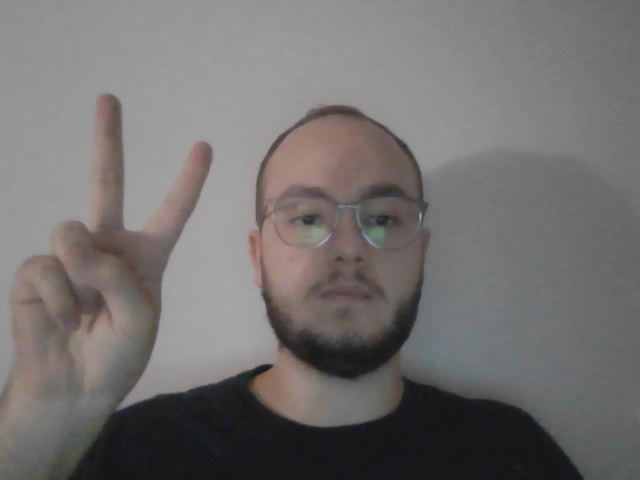One: (10, 92, 213, 402)
